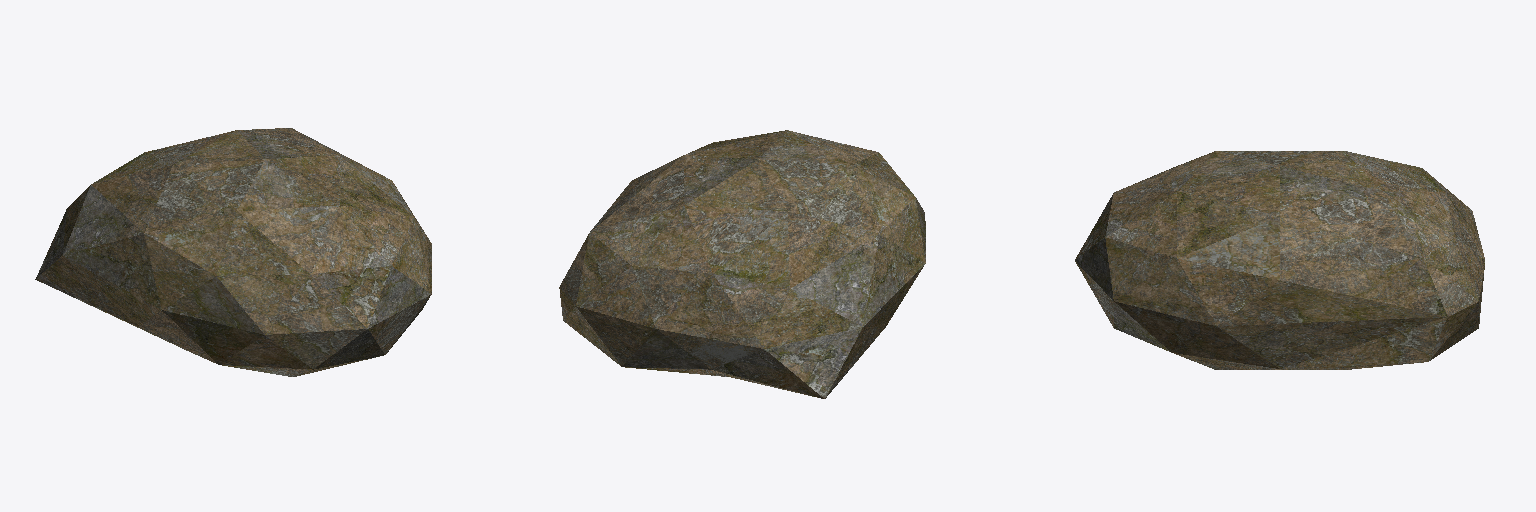
3 views of the same model, side by side, from view 1: azimuth 30°, elevation 25°; view 2: azimuth 150°, elevation 25°; view 3: azimuth 270°, elevation 25° (orthographic).
Visible parts, largest first — view 1: ICO球.001; view 2: ICO球.001; view 3: ICO球.001.
Boxes of the visible parts, box(x1,y1,x2,y2) form: ICO球.001: box(35, 128, 431, 376); ICO球.001: box(559, 130, 925, 398); ICO球.001: box(1075, 151, 1484, 369).
Bounding box in the file's own units: 44.03 × 27.56 × 54.3.
Materials: 1 (1 with a texture image).